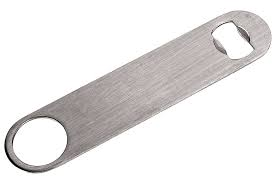bottleopener: (4, 10, 273, 173)
